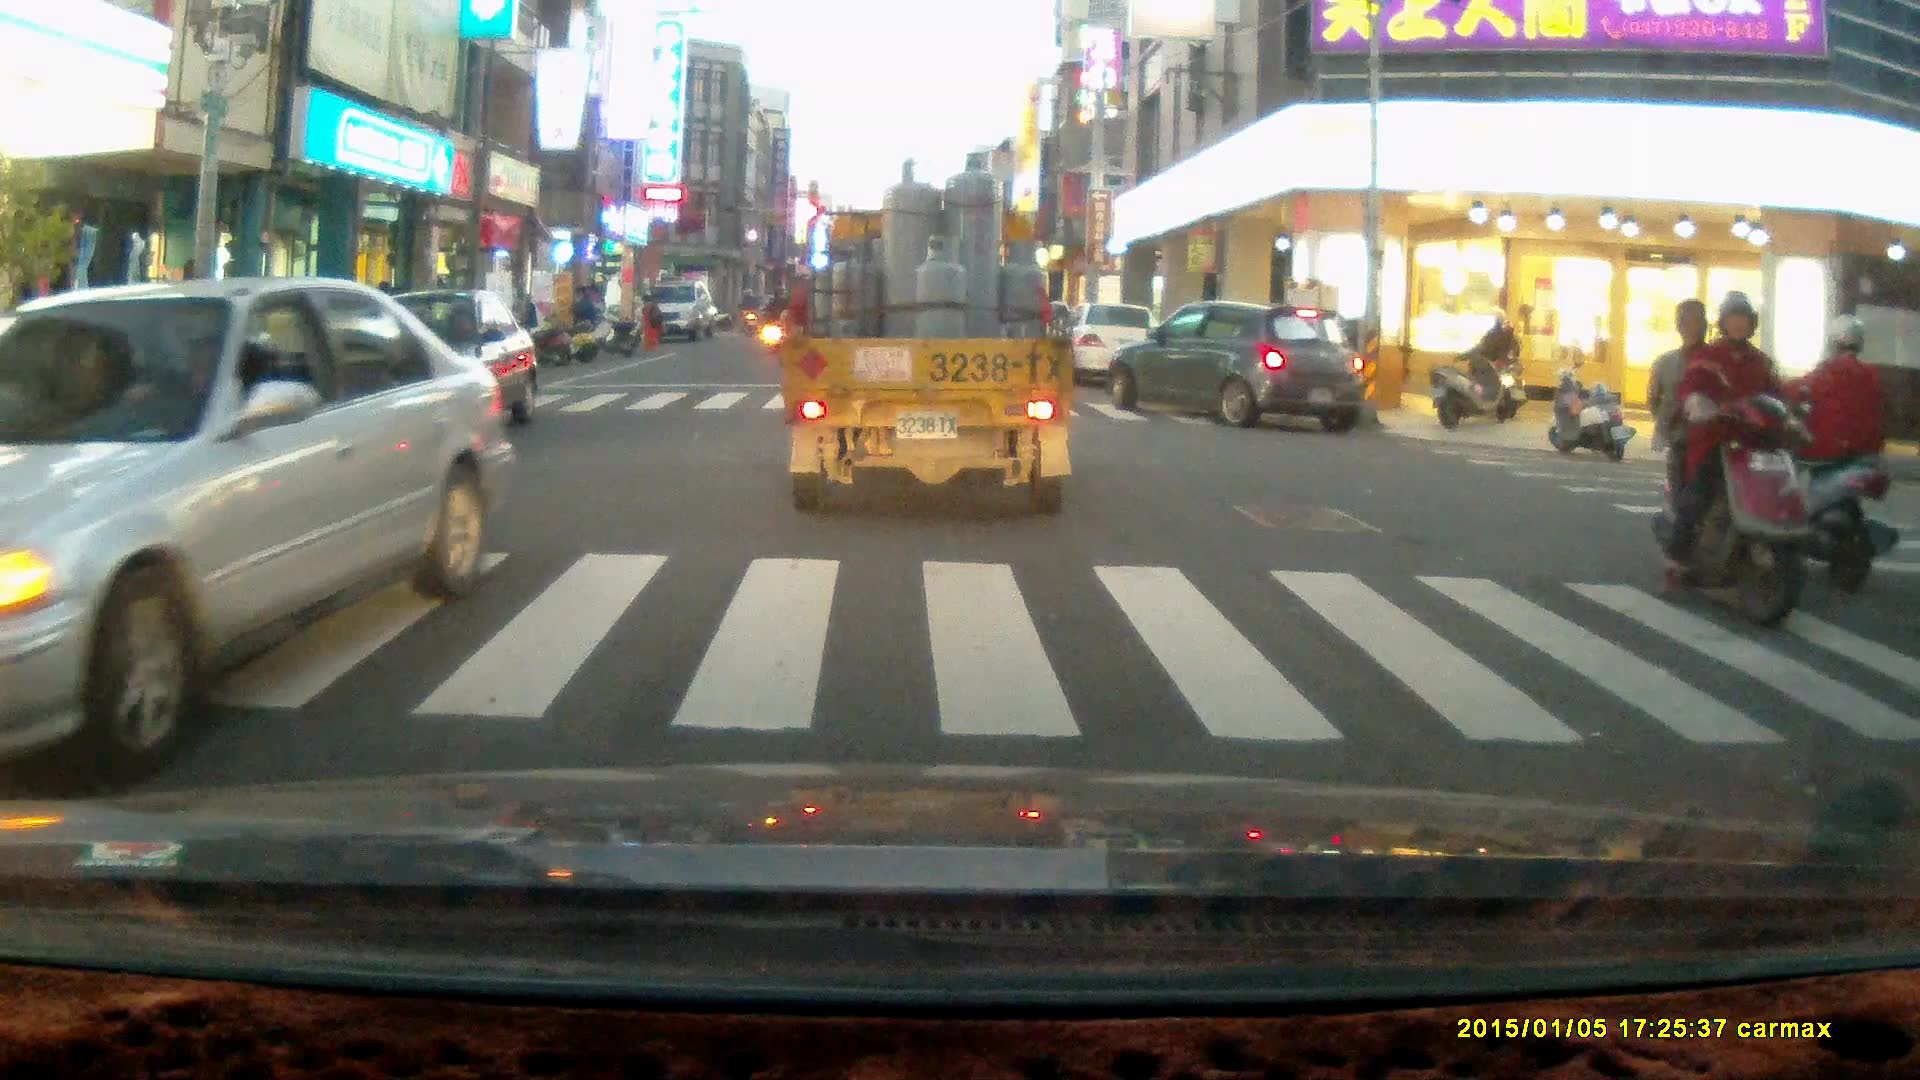pedestrian: (570, 284, 598, 349), (634, 293, 659, 353)
rider: (1637, 291, 1817, 636), (1753, 309, 1898, 602), (1466, 307, 1528, 425)
vehicle: (1, 277, 508, 790), (782, 152, 1079, 518), (1109, 302, 1366, 432), (1048, 305, 1173, 391), (633, 279, 711, 341)
